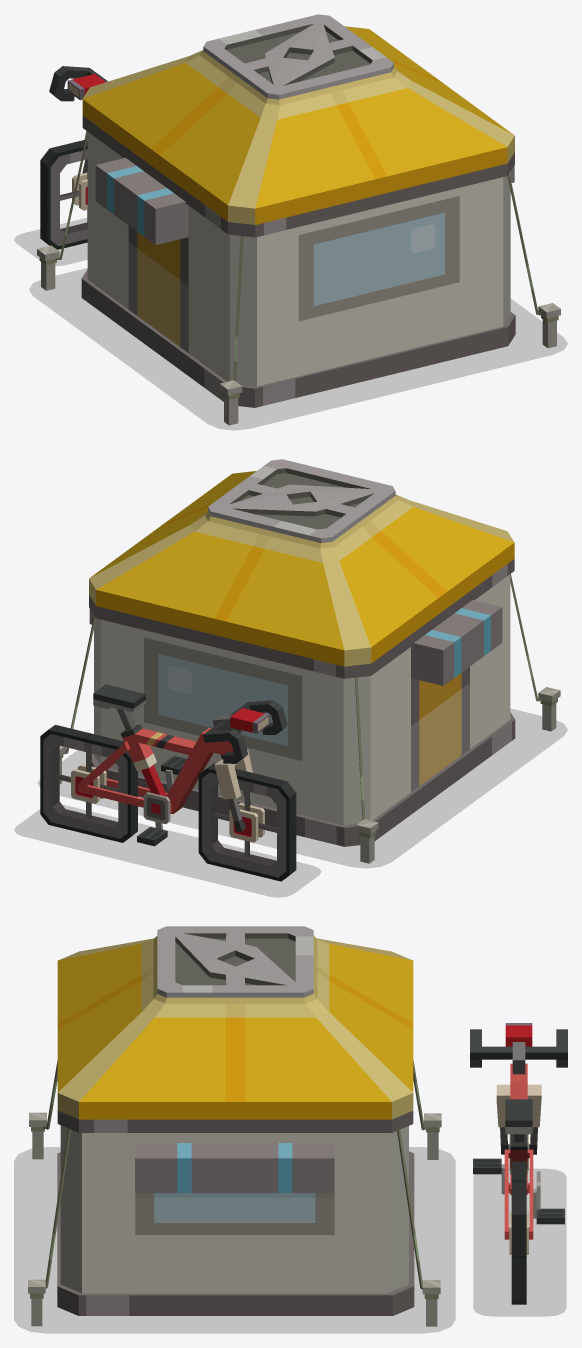
Rendered from G_makeover_B_camp.fbx.
The picture shows the model from 3 angles, top to bottom: view 1: azimuth 30°, elevation 25°; view 2: azimuth 150°, elevation 25°; view 3: azimuth 270°, elevation 25°; orthographic projection. The views are drawn at different scales.
Parts seen in each view (by area): view 1: tent, ground, bike; view 2: tent, bike, ground; view 3: tent, ground, bike.
Boxes of the visible parts, x1=… form: tent: x1=37, y1=14, x2=560, y2=425; ground: x1=14, y1=218, x2=567, y2=430; bike: x1=40, y1=66, x2=108, y2=249; tent: x1=59, y1=459, x2=560, y2=863; bike: x1=40, y1=684, x2=296, y2=881; ground: x1=14, y1=708, x2=567, y2=897; tent: x1=28, y1=926, x2=441, y2=1326; ground: x1=14, y1=1147, x2=566, y2=1333; bike: x1=470, y1=1023, x2=567, y2=1304.
Size of the model in its own units: 5.85 by 4.13 by 7.33.
